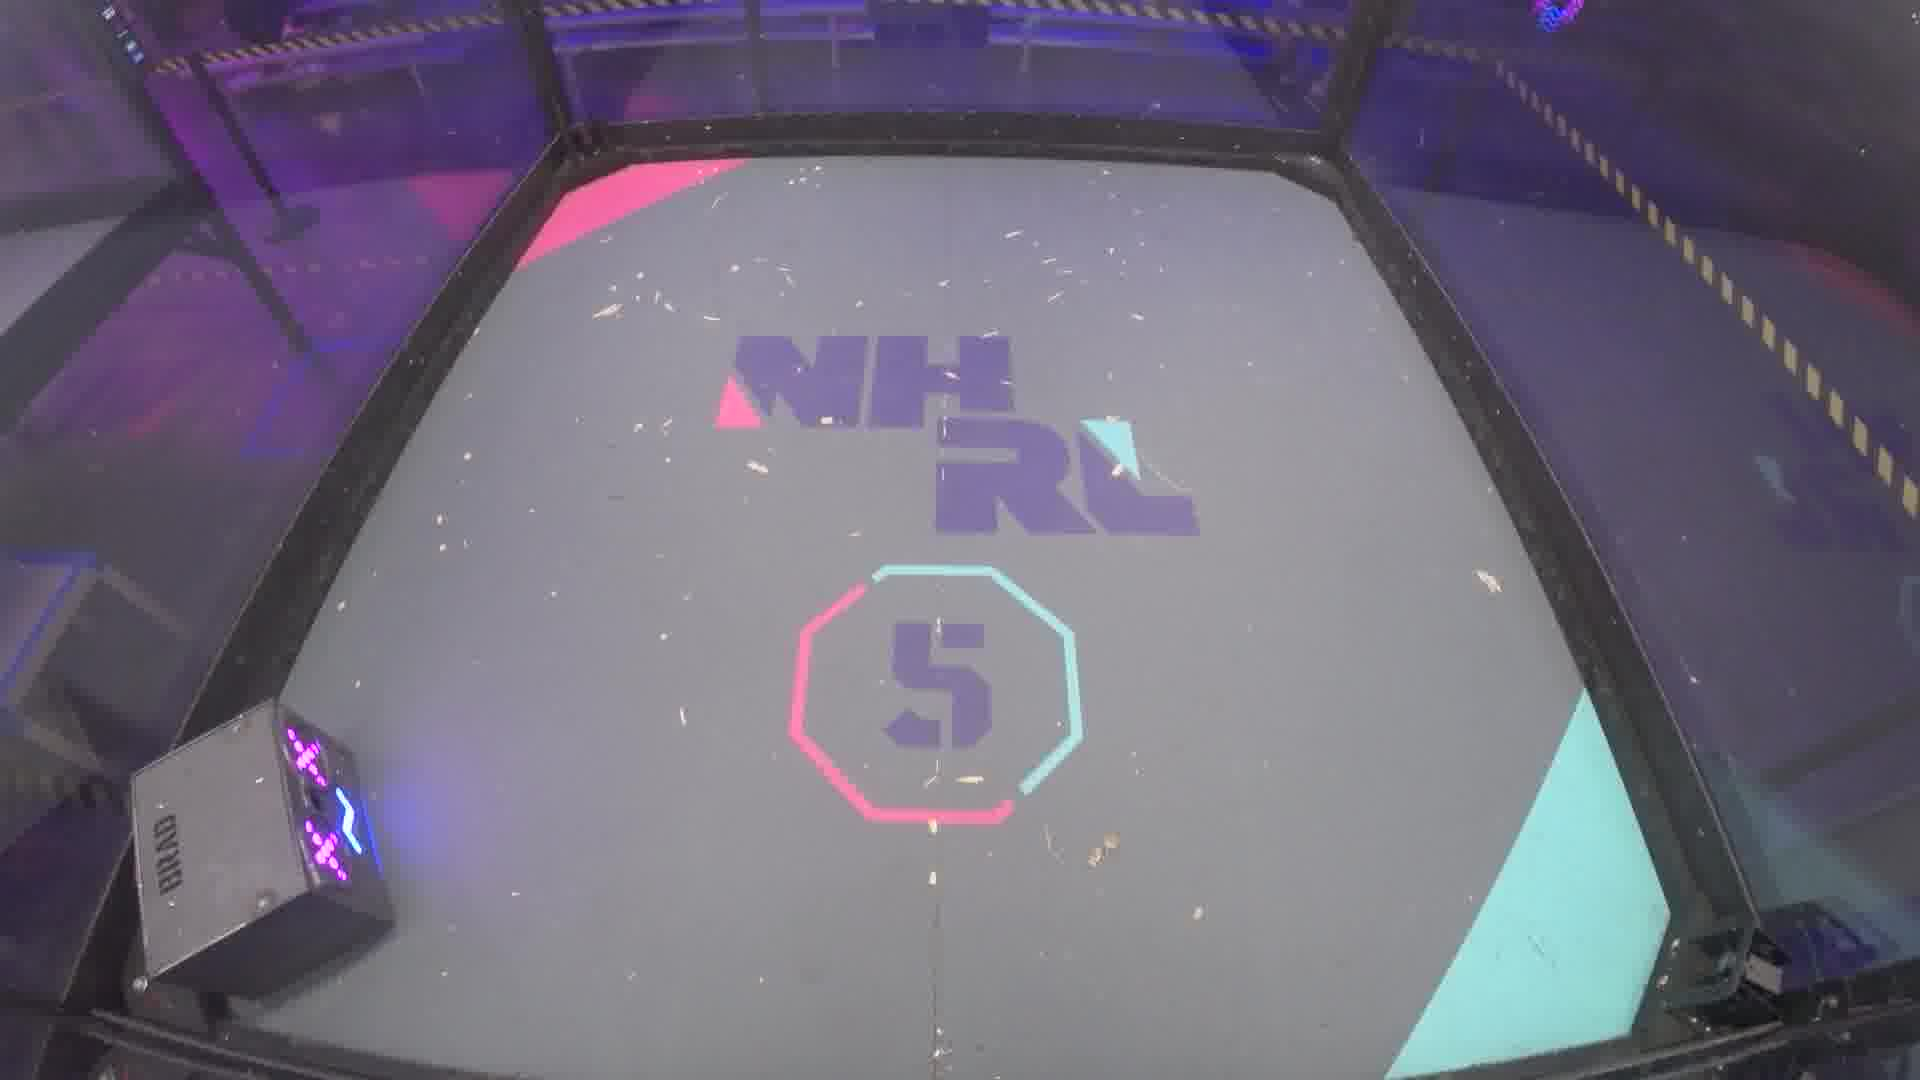housebot: (127, 700, 393, 997)
